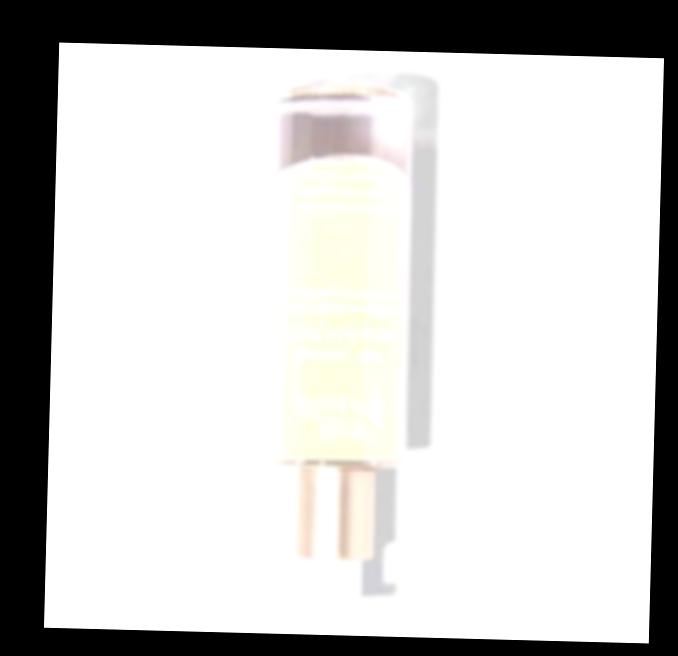cosmetic: (259, 92, 415, 612)
